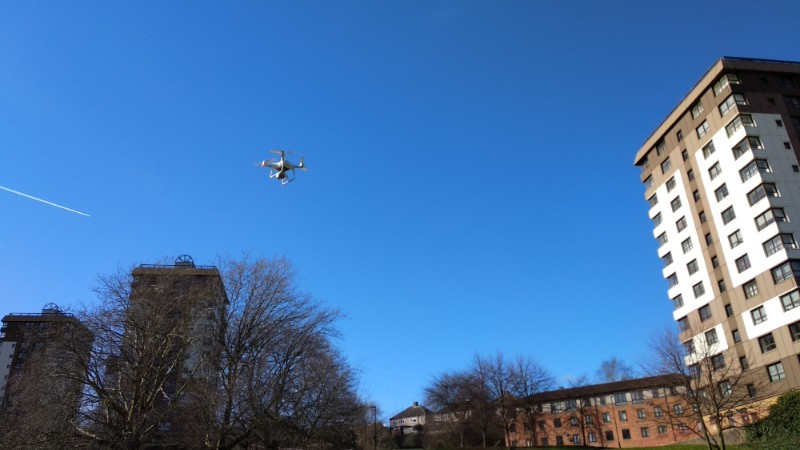drone: (253, 147, 310, 189)
